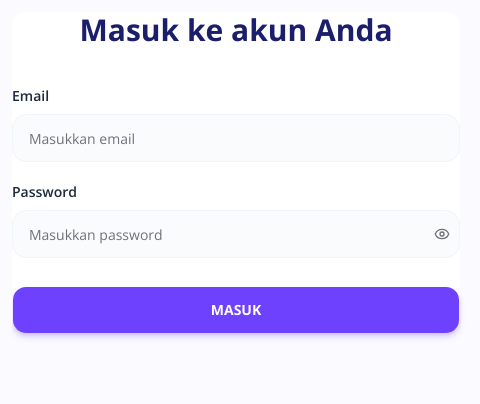
LoginForm › shows validation errors when submitted empty
Click the button "Masuk". click: (236, 310)
box: [12, 286, 460, 334]
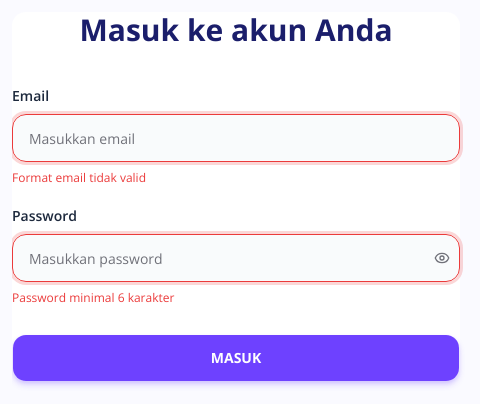
expect the text "Format email tidak valid" is shown: met, box [12, 169, 146, 186]
expect the text "Password minimal 6 karakter" is shown: met, box [12, 289, 174, 306]
